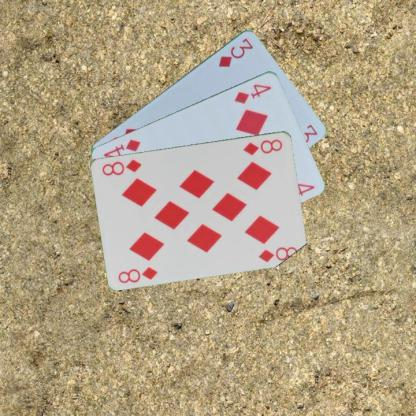3d: (215, 35, 255, 68)
4d: (232, 81, 272, 105)
8d: (241, 136, 284, 157), (115, 264, 159, 284)
